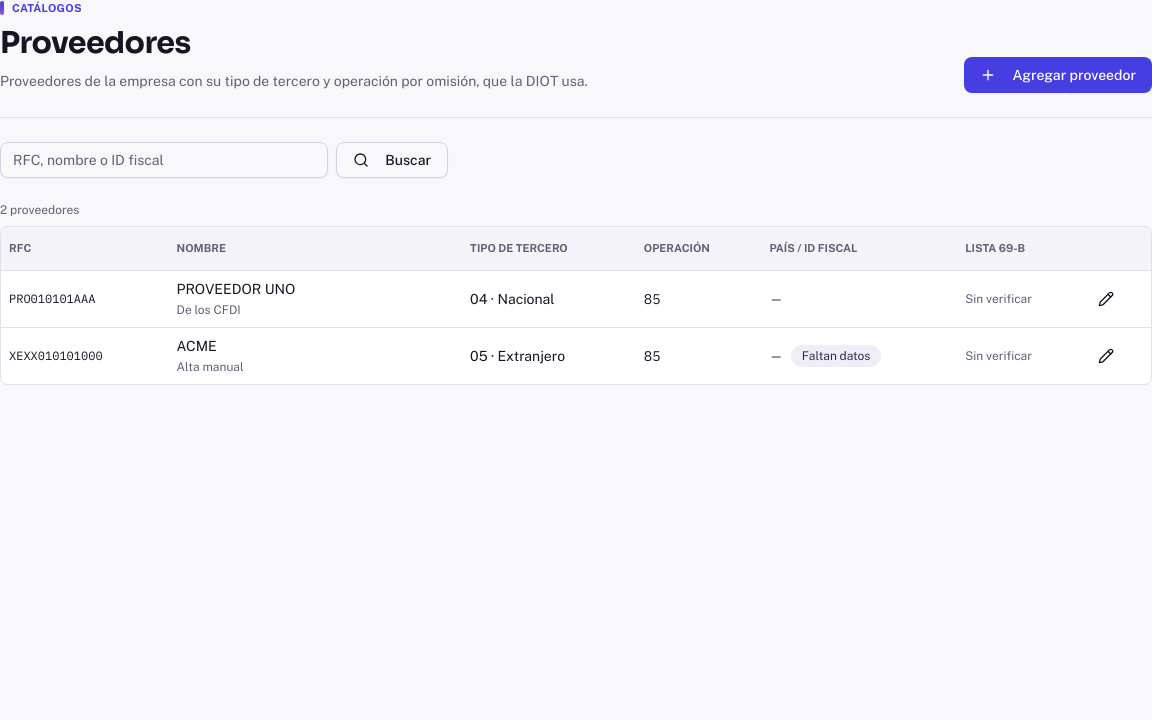
Test: ProveedoresPantalla › da de alta un proveedor con RFC obligatorio
Later steps or results of the test are not shown.
Click the button "Agregar proveedor" at (1058, 74), box [964,56,1151,92]
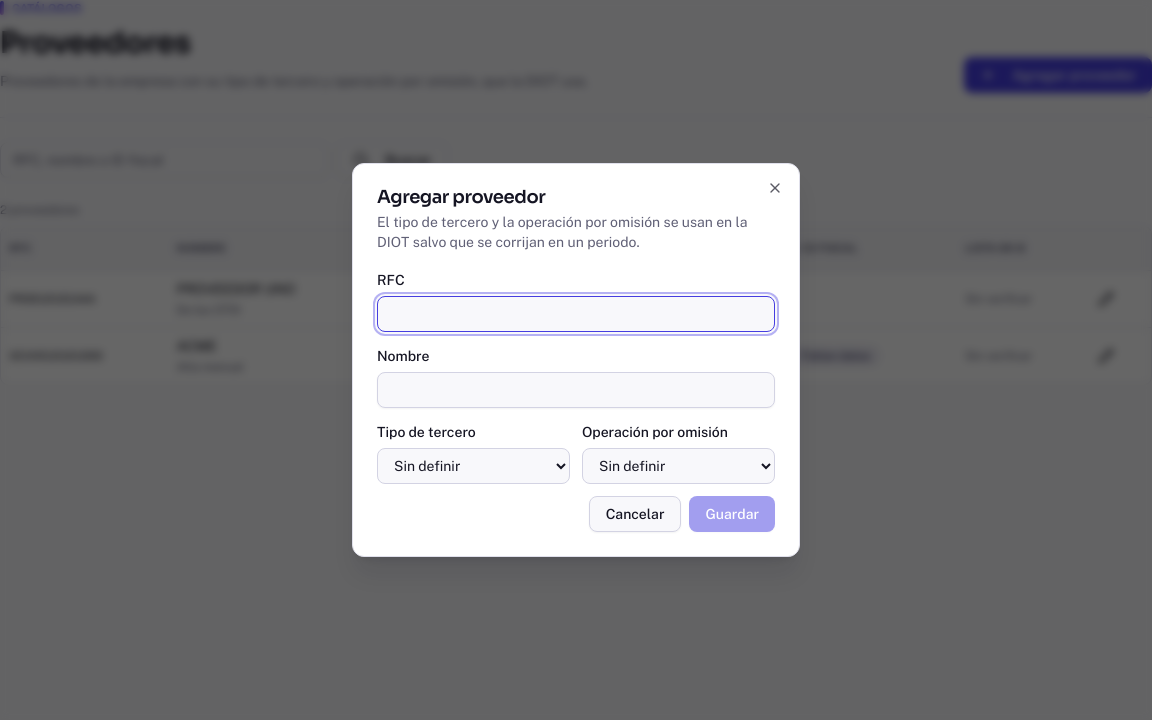
Now the button "Guardar" is disabled, box [690,496,775,532]
